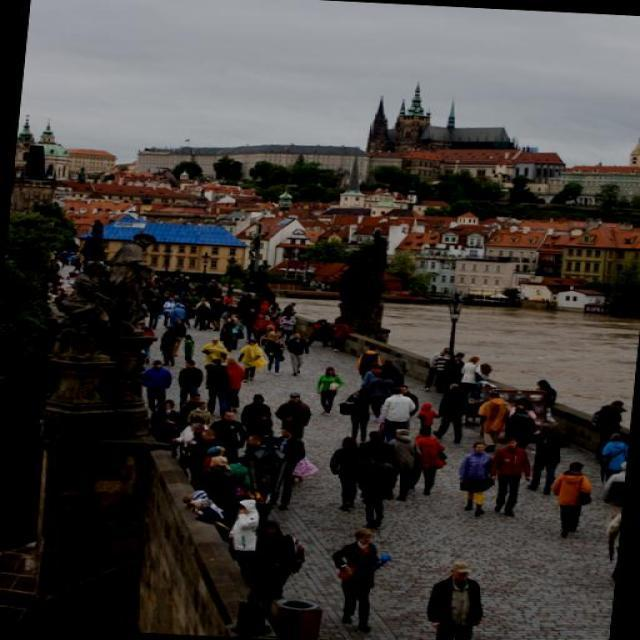flood: (374, 288, 639, 419)
